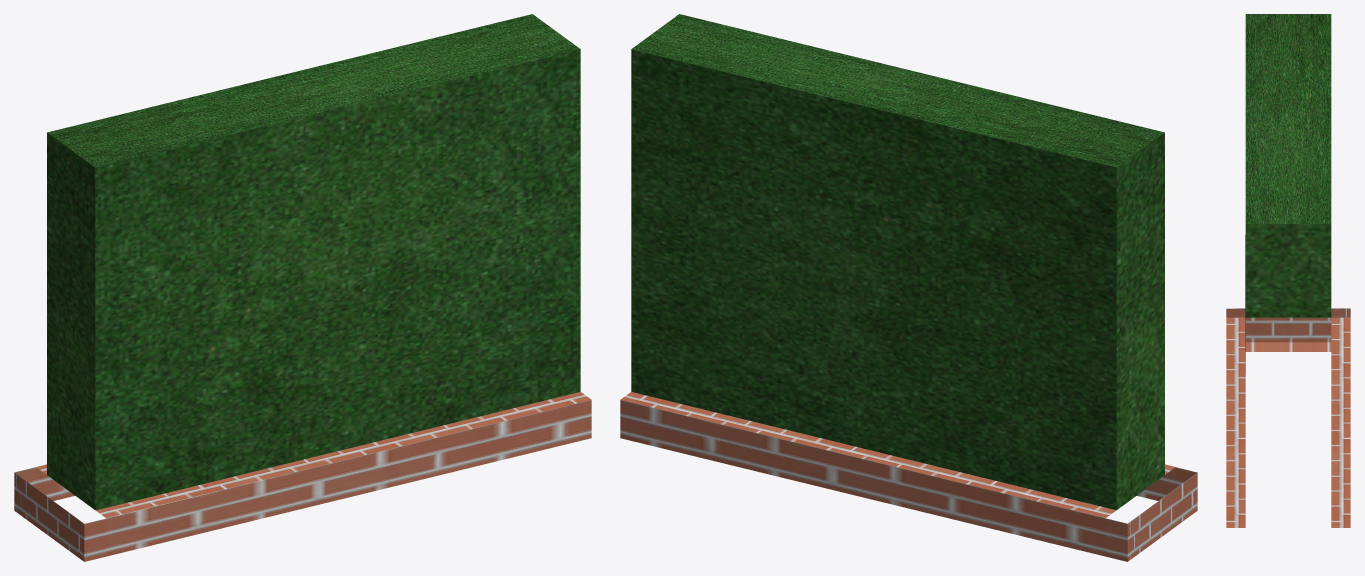
Rendered from hedgemazestartFINAL.fbx.
The picture shows the model from 3 angles, left to right: view 1: azimuth 30°, elevation 25°; view 2: azimuth 150°, elevation 25°; view 3: azimuth 270°, elevation 25°; orthographic projection. The views are drawn at different scales.
Visible parts, largest first — view 1: pPlane4; view 2: pPlane4; view 3: pPlane4.
Part boxes in pixels (bbox=[...]): pPlane4: bbox=[14, 14, 591, 561]; pPlane4: bbox=[620, 14, 1197, 561]; pPlane4: bbox=[1226, 14, 1350, 527].
Size of the model in its own units: 4.18 by 3 by 1.
1 material, 1 textured.
